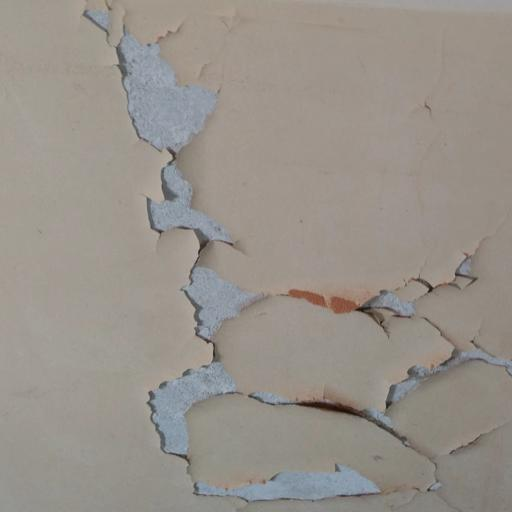peeling: (68, 0, 512, 501)
